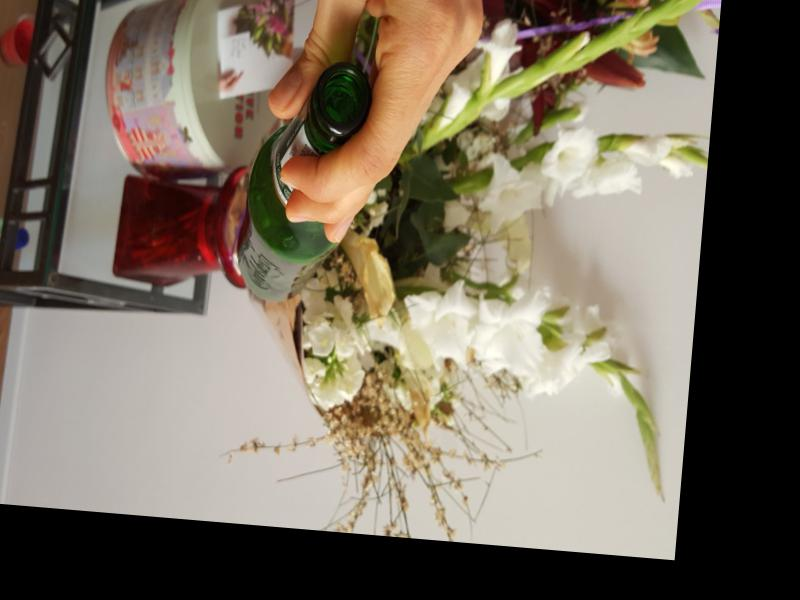Beer: (231, 55, 372, 308)
